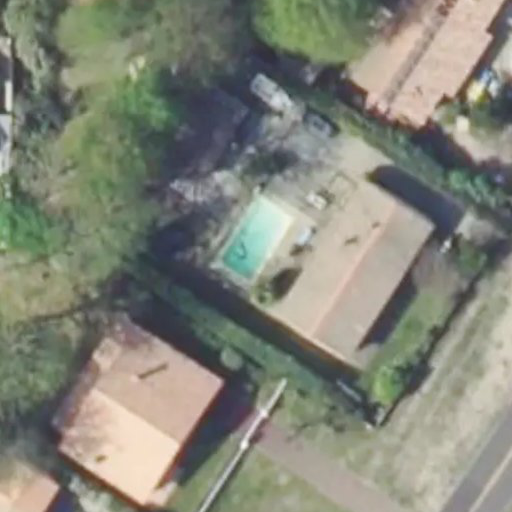pool: (215, 197, 291, 285)
